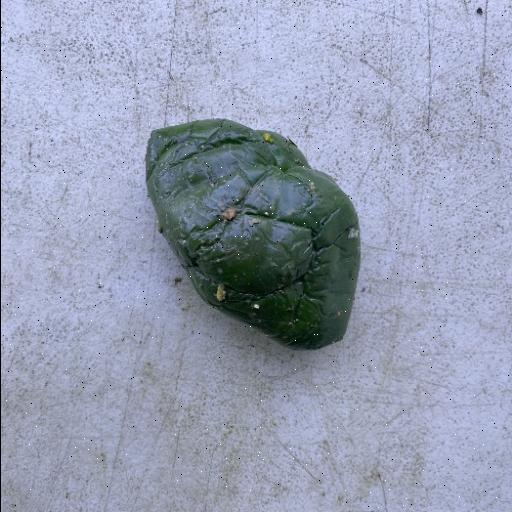Waste: (144, 116, 362, 352)
